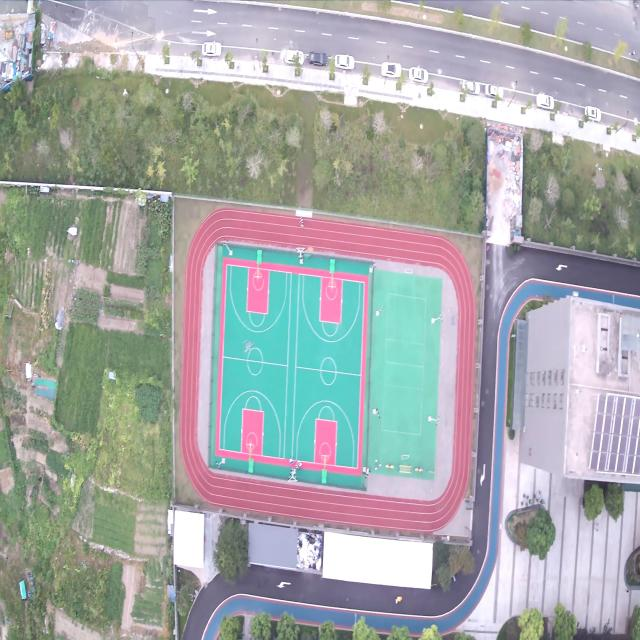UAV: (242, 339, 255, 353)
